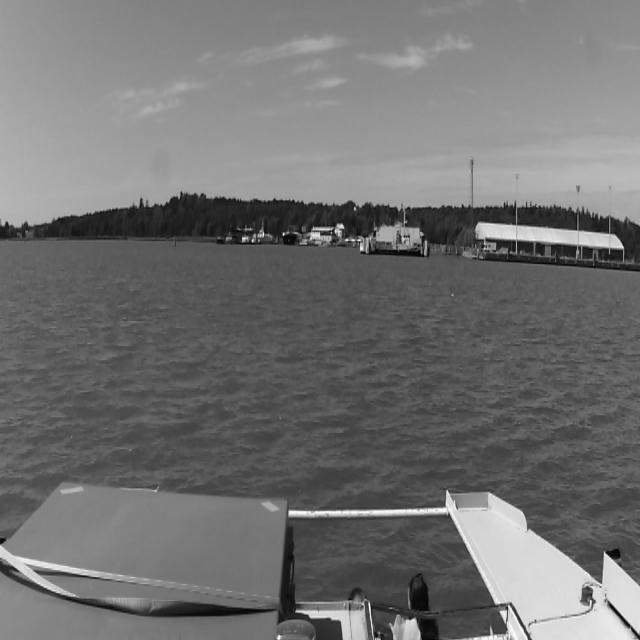ship: (257, 228, 273, 242), (241, 234, 250, 244)
